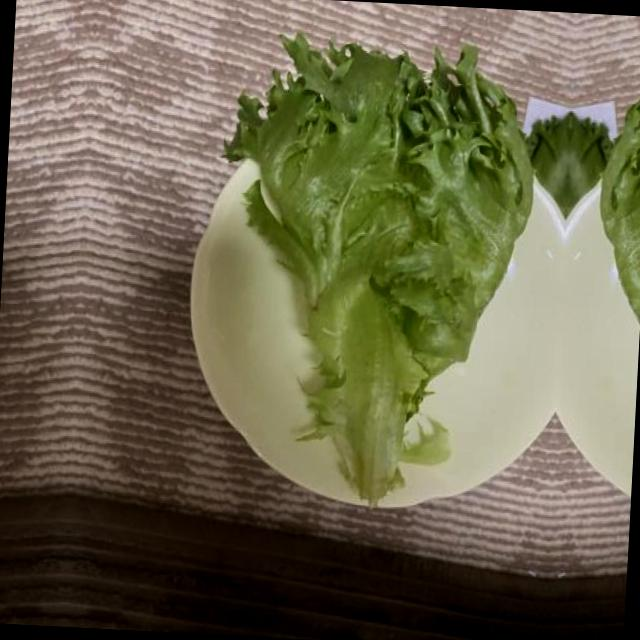healthy: (204, 26, 546, 508), (578, 44, 640, 513)
